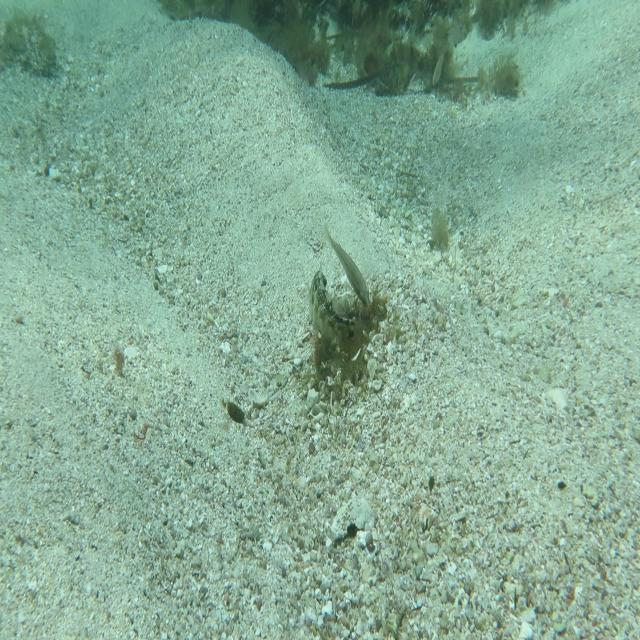DAN_CIRC: (306, 261, 363, 373)
female: (323, 216, 376, 318)
nest: (308, 285, 397, 397)
vegetation: (243, 0, 496, 57), (2, 9, 62, 79), (427, 202, 454, 261), (109, 342, 130, 374)
